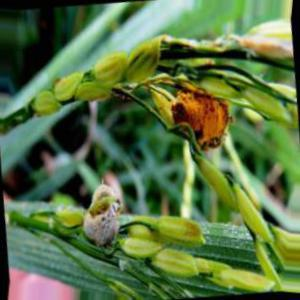Leaf_Scald: (168, 84, 232, 152), (248, 26, 284, 62)
